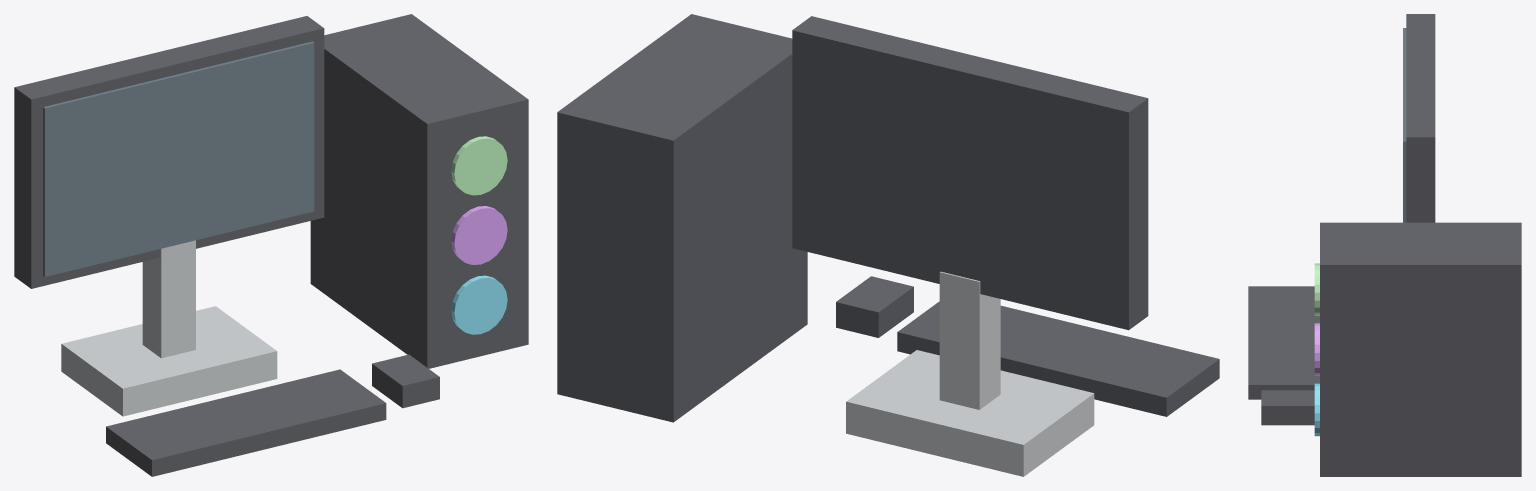
The model's file is gaming-rig.glb.
The picture shows the model from 3 angles, left to right: view 1: azimuth 30°, elevation 25°; view 2: azimuth 150°, elevation 25°; view 3: azimuth 270°, elevation 25°; orthographic projection. The views are drawn at different scales.
Parts seen in each view (by area): view 1: tower, display_panel, display_body, keyboard, foot, stand, mouse, fan_2, fan_0, fan_1; view 2: display_body, tower, foot, keyboard, stand, mouse; view 3: tower, keyboard, display_body, mouse, display_panel, fan_0, fan_1, fan_2.
Boxes of the visible parts, <box> form: tower: <box>310,14,528,368</box>; display_panel: <box>43,41,314,276</box>; display_body: <box>14,16,324,288</box>; keyboard: <box>106,369,386,476</box>; foot: <box>61,306,277,416</box>; stand: <box>142,240,195,358</box>; mouse: <box>372,354,439,408</box>; fan_2: <box>451,136,507,195</box>; fan_0: <box>451,275,507,334</box>; fan_1: <box>451,206,507,264</box>; display_body: <box>792,16,1148,330</box>; tower: <box>557,14,807,422</box>; foot: <box>846,350,1094,476</box>; keyboard: <box>897,301,1219,416</box>; stand: <box>939,271,1000,409</box>; mouse: <box>836,276,913,337</box>; tower: <box>1320,222,1521,476</box>; keyboard: <box>1248,286,1319,399</box>; display_body: <box>1406,14,1435,222</box>; mouse: <box>1261,390,1314,425</box>; display_panel: <box>1403,28,1406,222</box>; fan_0: <box>1314,383,1319,436</box>; fan_1: <box>1314,323,1319,375</box>; fan_2: <box>1314,263,1319,315</box>.
Bounding box in the file's own units: 0.84 × 0.57 × 0.515.
